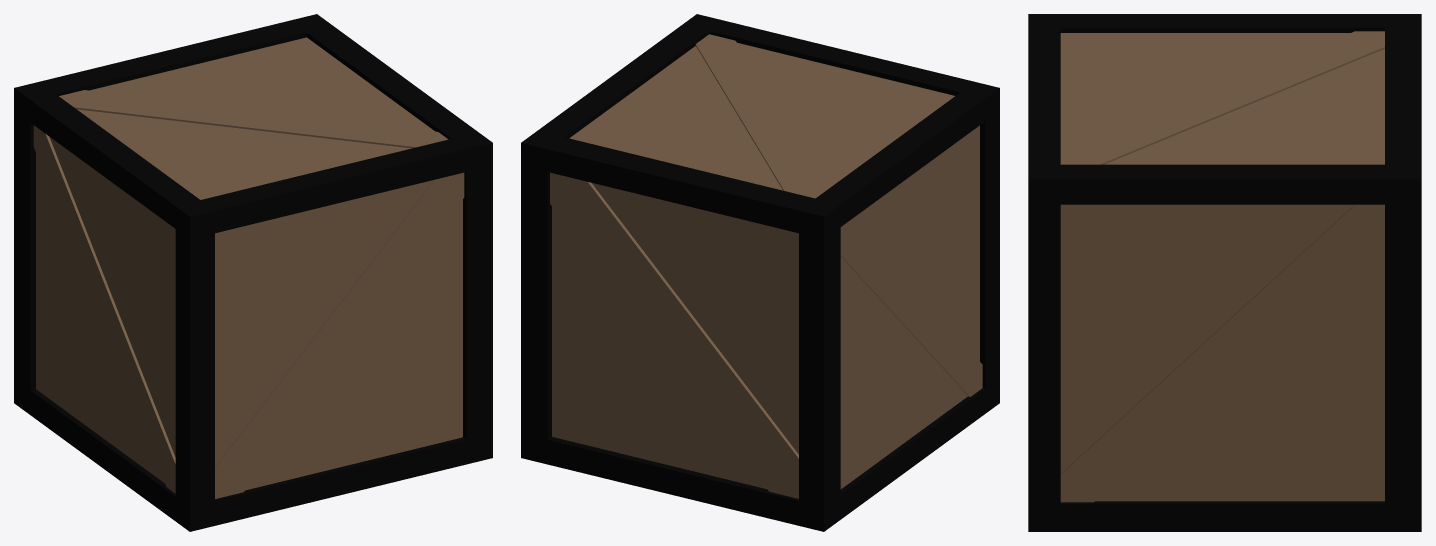
3 views of the same model, side by side, from view 1: azimuth 30°, elevation 25°; view 2: azimuth 150°, elevation 25°; view 3: azimuth 270°, elevation 25° (orthographic). The views are drawn at different scales.
Visible parts, largest first — view 1: Cube.001; view 2: Cube.001; view 3: Cube.001.
Boxes of the visible parts, x1,y1,x2,y2 form: Cube.001: [14, 14, 492, 531]; Cube.001: [521, 14, 999, 531]; Cube.001: [1028, 14, 1421, 531].
Size of the model in its own units: 208 by 206 by 209.
